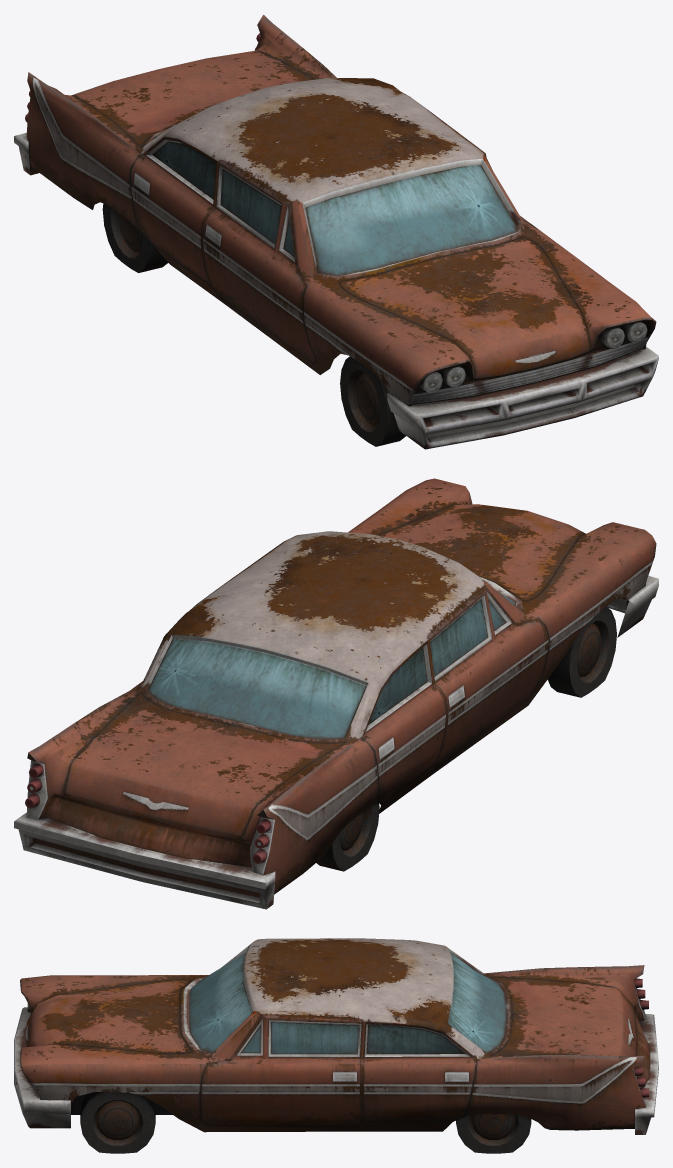
Rendered from Rusty_Vintage_Car_1.1.fbx.
The picture shows the model from 3 angles, top to bottom: view 1: azimuth 30°, elevation 25°; view 2: azimuth 150°, elevation 25°; view 3: azimuth 270°, elevation 25°; orthographic projection. The views are drawn at different scales.
Visible parts, largest first — view 1: Rusty_Vintage_Car, Rusty_Vintage_Car_Glass; view 2: Rusty_Vintage_Car, Rusty_Vintage_Car_Glass; view 3: Rusty_Vintage_Car, Rusty_Vintage_Car_Glass.
Boxes of the visible parts, bbox=[...] form: Rusty_Vintage_Car: bbox=[14, 15, 658, 449]; Rusty_Vintage_Car_Glass: bbox=[152, 134, 516, 275]; Rusty_Vintage_Car: bbox=[14, 478, 658, 909]; Rusty_Vintage_Car_Glass: bbox=[148, 591, 516, 739]; Rusty_Vintage_Car: bbox=[14, 938, 658, 1153]; Rusty_Vintage_Car_Glass: bbox=[189, 952, 506, 1054].
Bounding box in the file's own units: 256 × 179 × 718.
2 materials, 2 textured.
